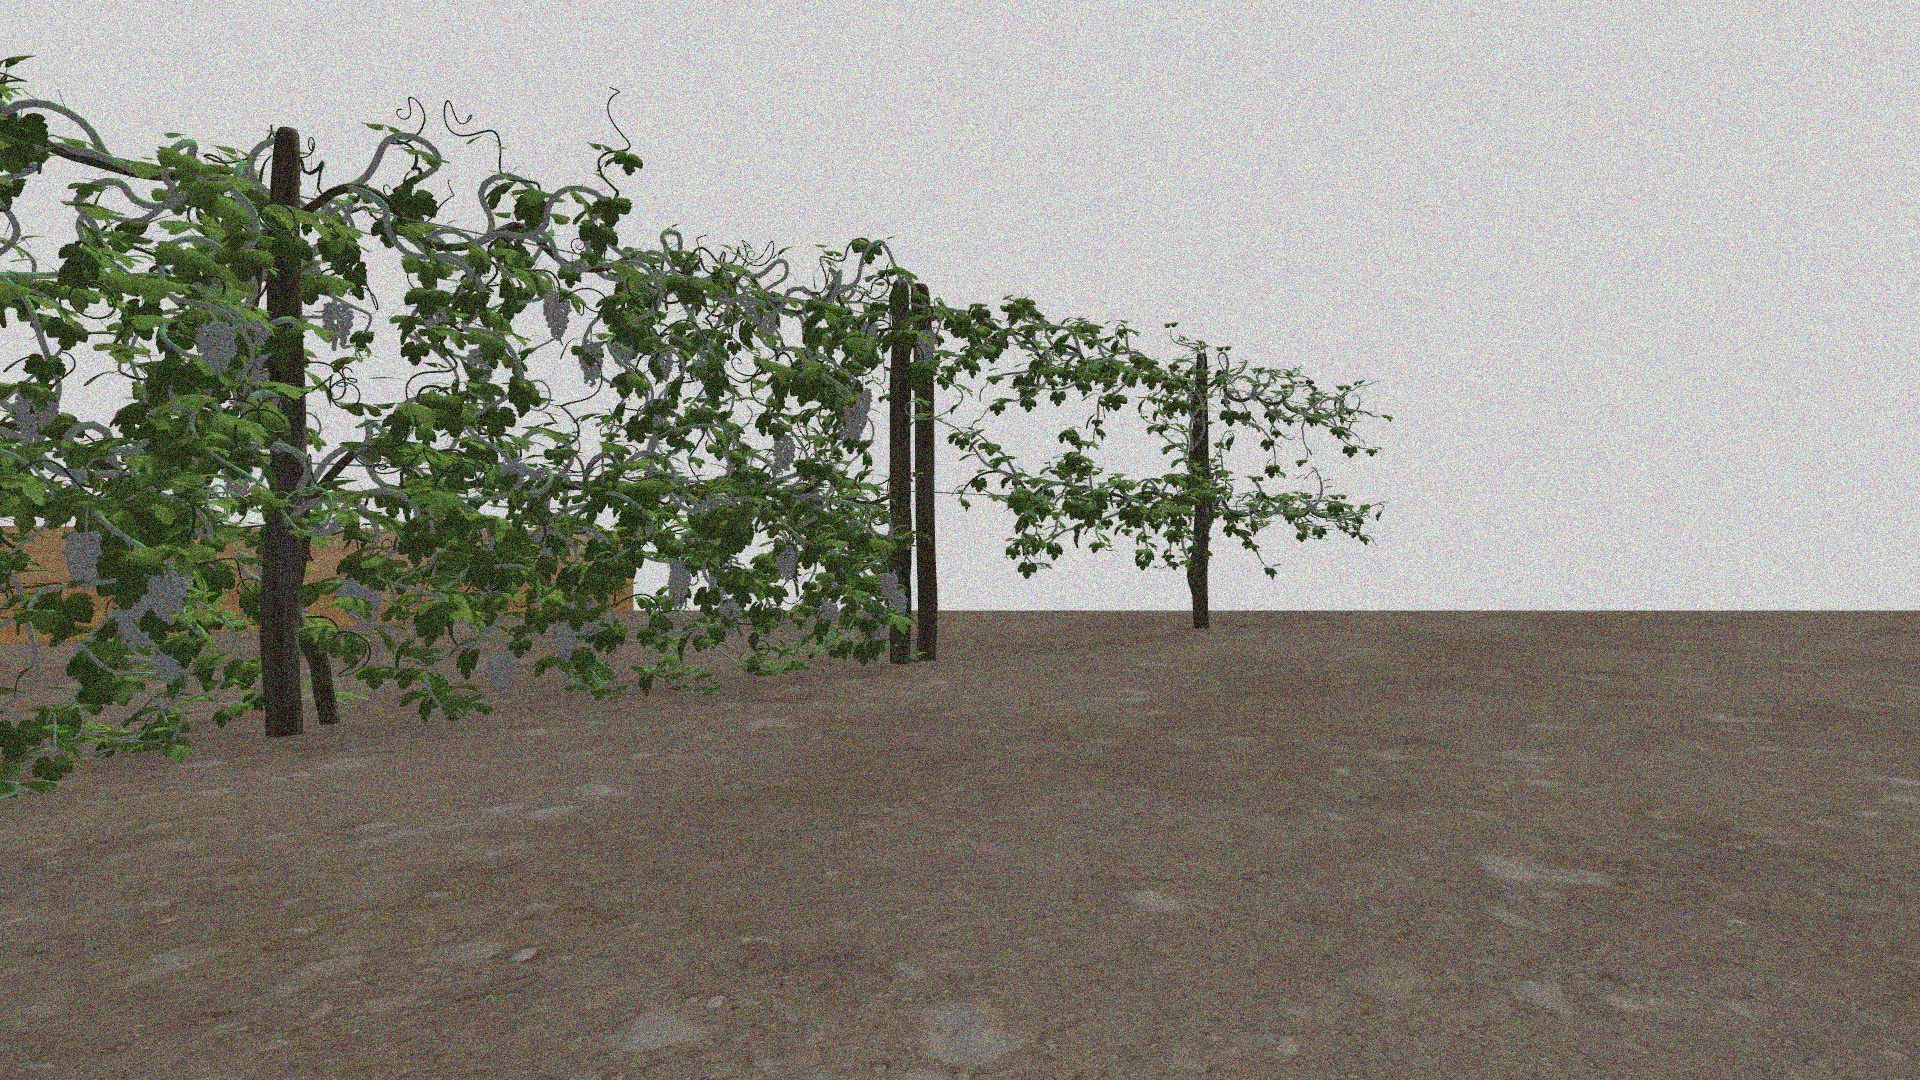grape: (63, 529, 104, 591), (146, 566, 189, 625), (12, 389, 57, 443), (193, 319, 239, 371), (115, 599, 149, 653), (550, 611, 582, 663), (843, 388, 874, 439), (320, 301, 353, 349), (541, 291, 574, 339), (485, 651, 517, 694), (578, 342, 604, 388), (336, 580, 364, 622), (667, 563, 690, 607), (771, 433, 796, 471), (719, 599, 742, 636), (774, 547, 800, 580), (916, 328, 936, 365), (363, 591, 382, 621), (655, 349, 673, 382), (887, 591, 909, 615), (819, 599, 839, 624), (880, 572, 898, 599)
